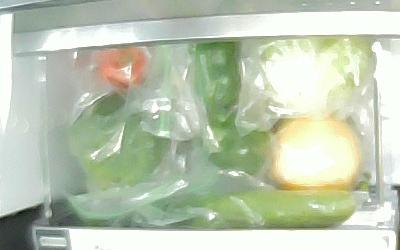apple_vinyl: (97, 47, 146, 89)
broccoli_vinyl: (70, 91, 172, 188)
cucumber_vinyl: (109, 190, 358, 228)
grapefruit_vinyl: (267, 116, 362, 191)
lettuce_vinyl: (257, 36, 369, 113)
paprika_vinyl: (193, 42, 242, 128), (202, 125, 266, 174)
